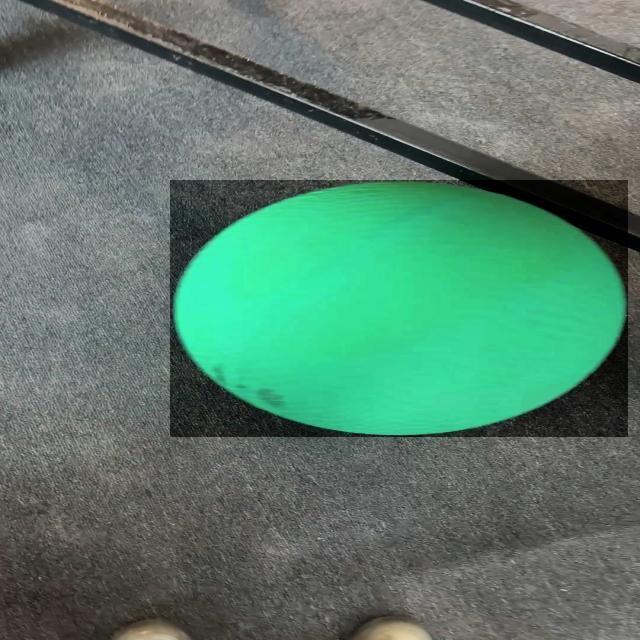Algae: (170, 180, 628, 437)
